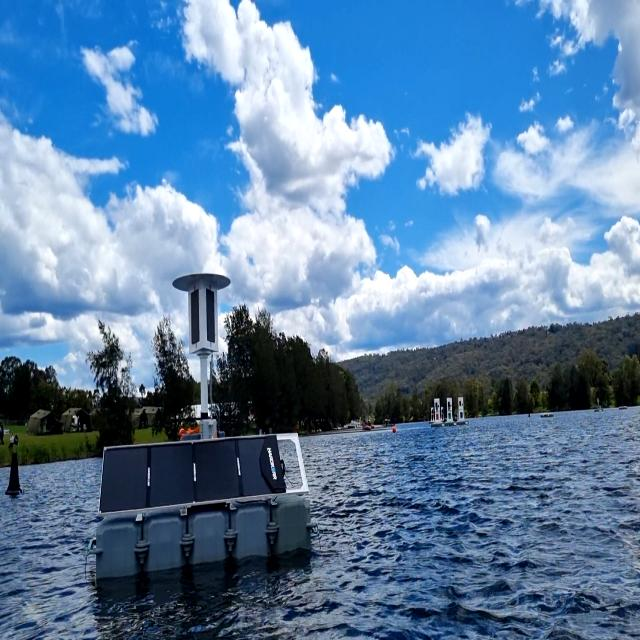led: (204, 283, 216, 348), (189, 290, 202, 346)
